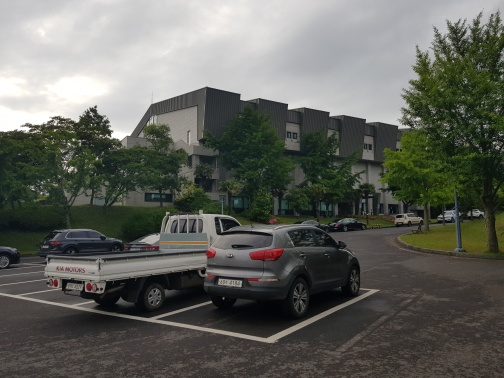Gym: (119, 89, 406, 212), (199, 92, 397, 160)
